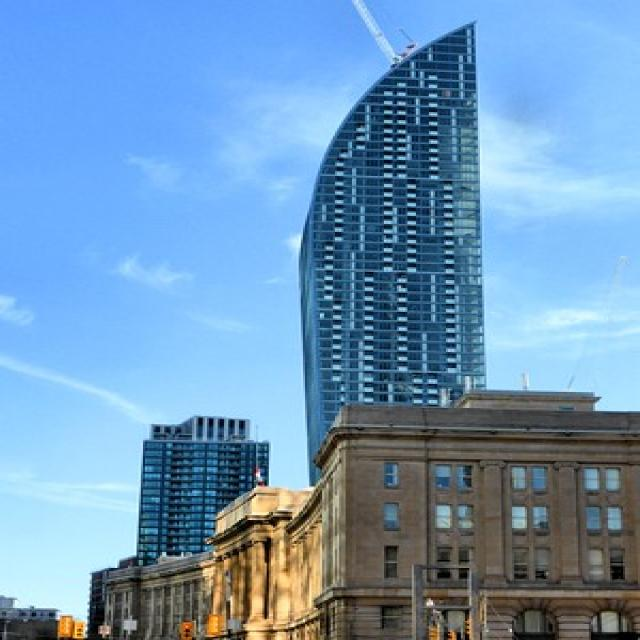Normal_building: (302, 16, 502, 494), (133, 416, 272, 594)
